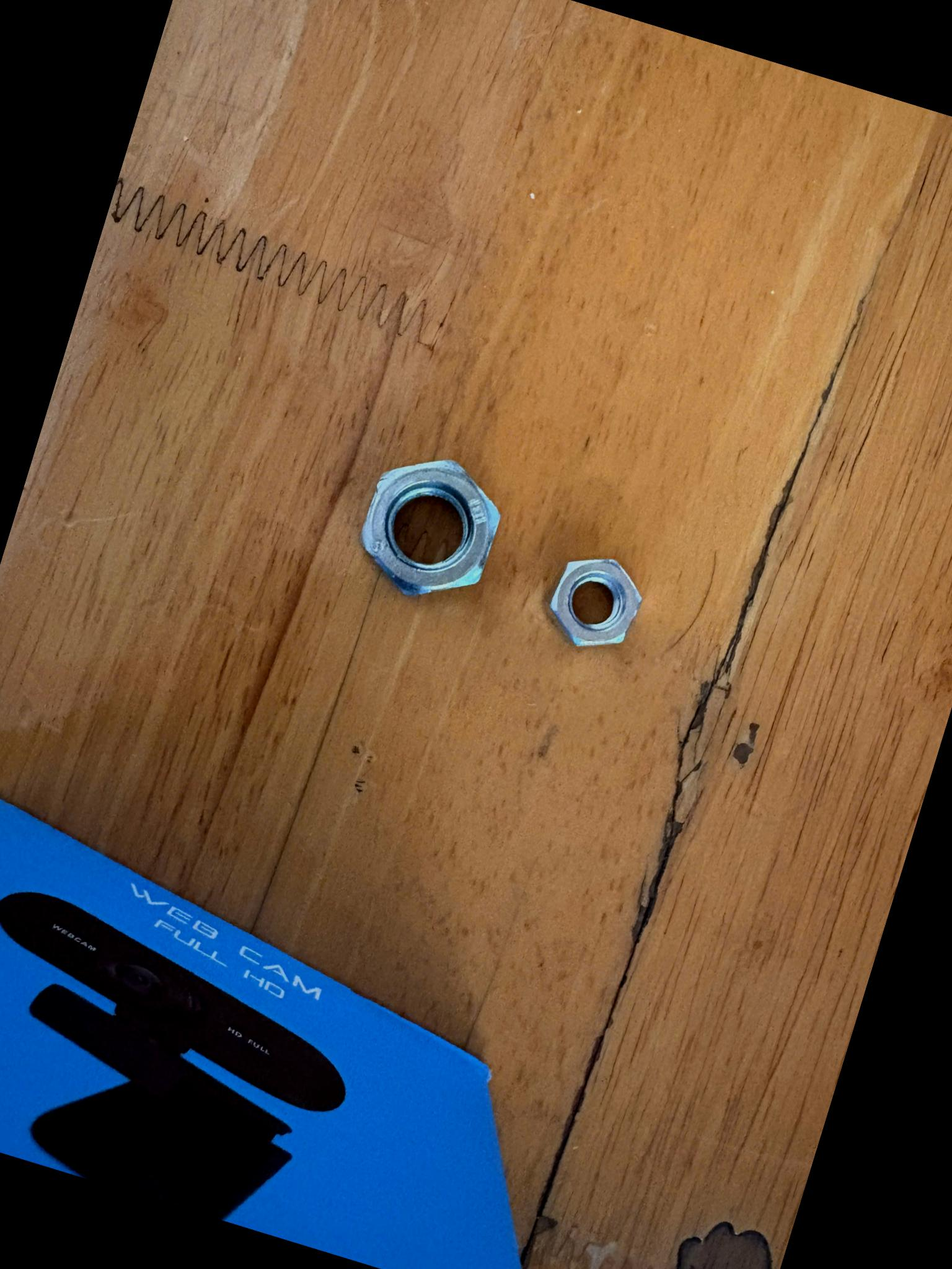nut: (317, 419, 539, 646), (513, 533, 679, 690)
